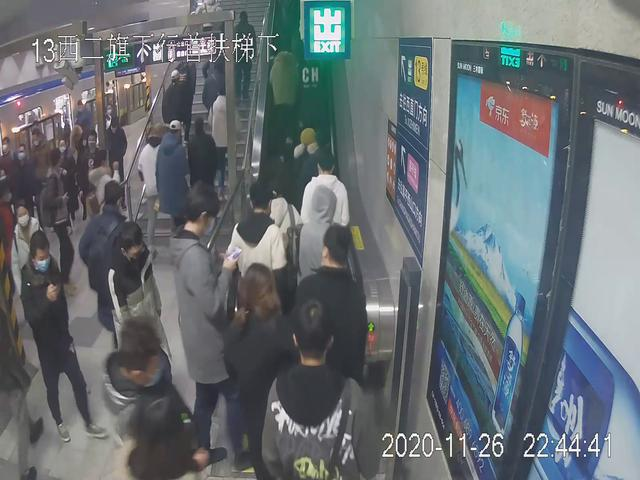person: (100, 222, 192, 460), (261, 295, 378, 480), (171, 181, 246, 469), (212, 257, 305, 466), (18, 227, 104, 450), (292, 225, 368, 459), (228, 177, 292, 341), (156, 120, 196, 233), (205, 88, 239, 193), (271, 36, 303, 145)
